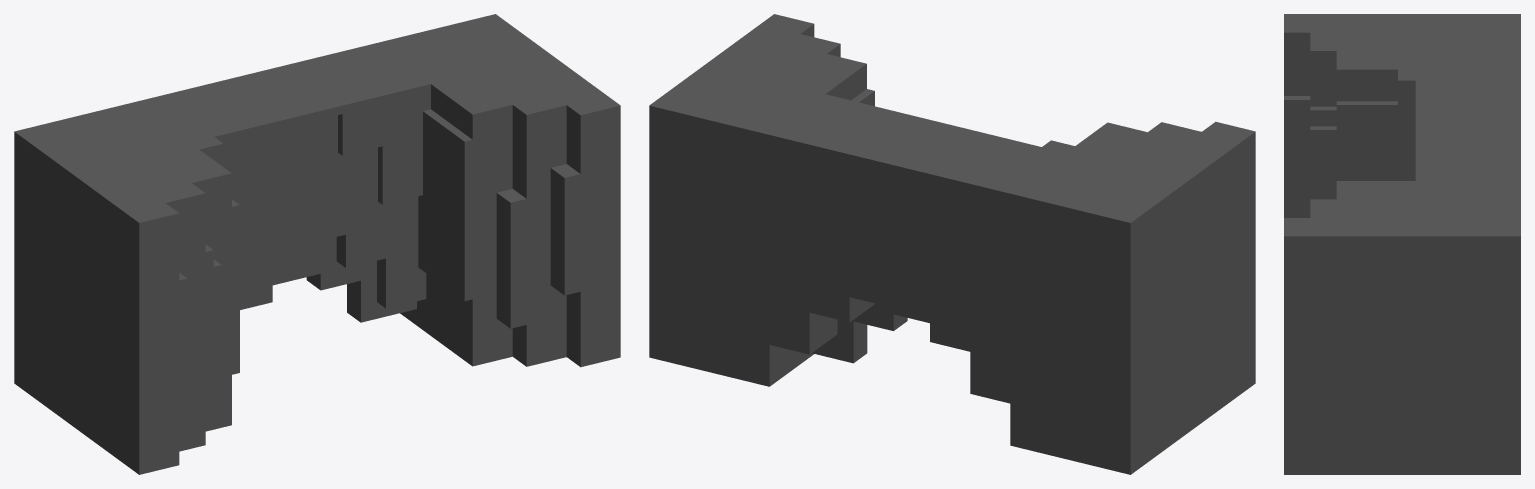
File: ground start.obj
3 renders of one model, left to right at view 1: azimuth 30°, elevation 25°; view 2: azimuth 150°, elevation 25°; view 3: azimuth 270°, elevation 25°, orthographic. The views are drawn at different scales.
Bounding box in the file's own units: 60 × 30 × 27.
Materials: 1 (1 with a texture image).
